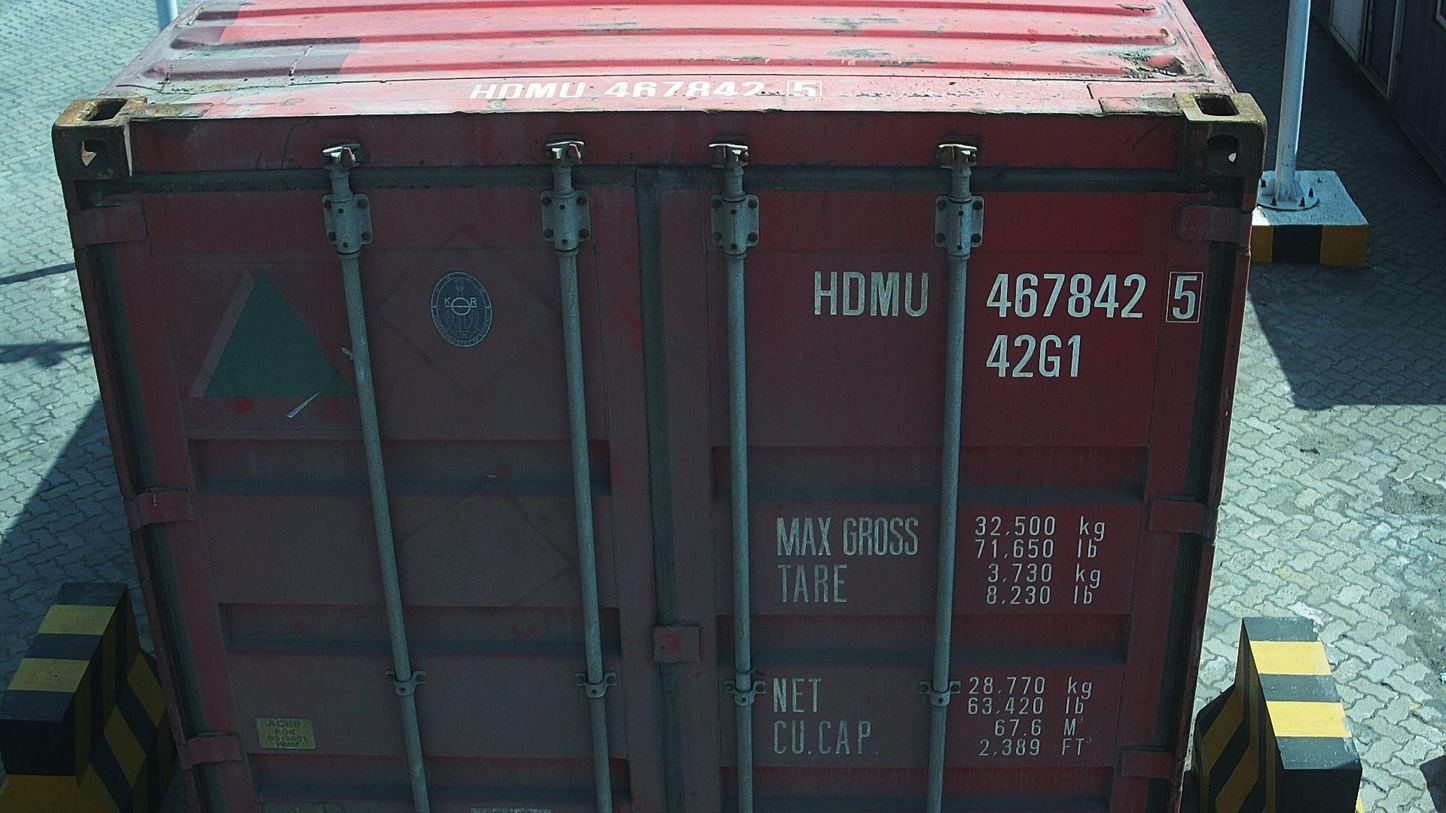container-numbers: (806, 266, 1207, 325), (464, 77, 828, 100), (984, 331, 1087, 382)
